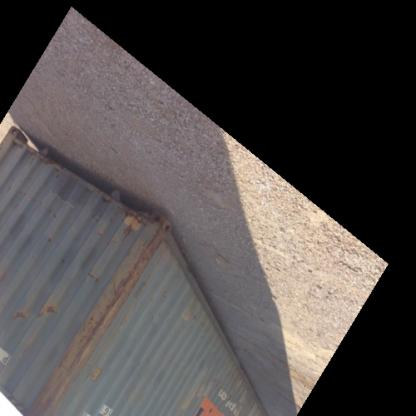Damage: (81, 271, 138, 346), (83, 199, 135, 251), (142, 224, 172, 276), (10, 301, 61, 331), (34, 374, 66, 416), (176, 304, 204, 334), (184, 382, 210, 404), (89, 364, 107, 384), (44, 236, 58, 250)
